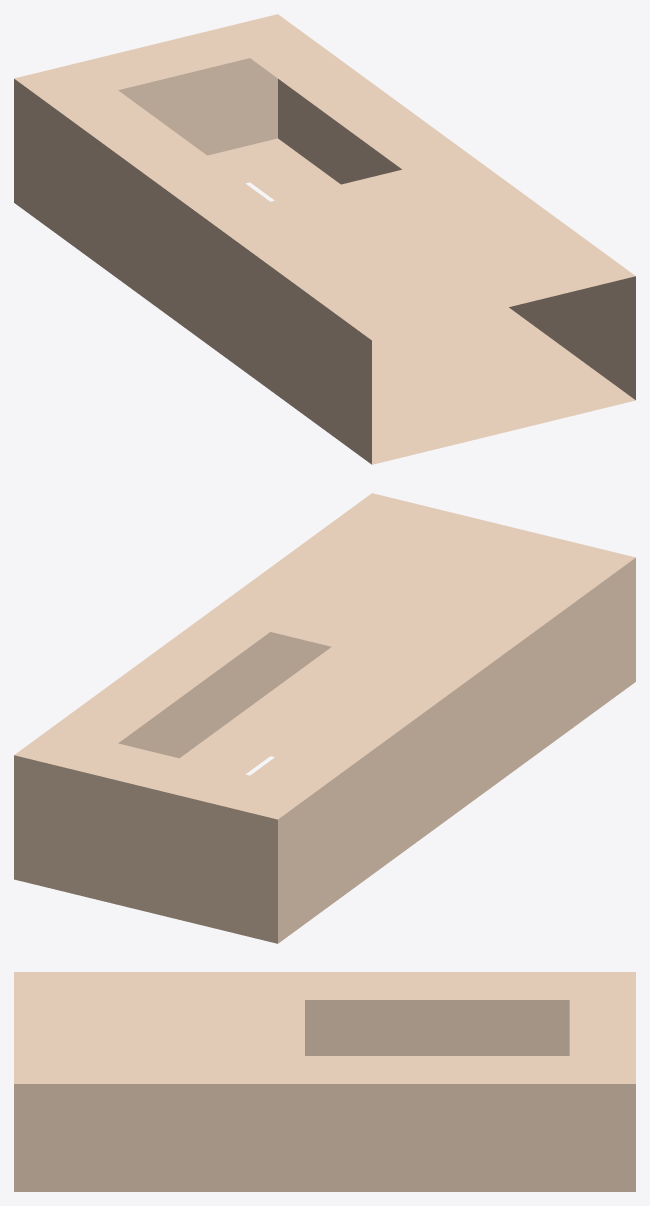
Rendered from original-2.obj.
3 renders of one model, top to bottom at view 1: azimuth 30°, elevation 25°; view 2: azimuth 150°, elevation 25°; view 3: azimuth 270°, elevation 25°, orthographic. The views are drawn at different scales.
Parts seen in each view (by area): view 1: #ID3; view 2: #ID3; view 3: #ID3.
Boxes of the visible parts, <box> form: #ID3: <box>14,14,635,464</box>; #ID3: <box>14,493,635,943</box>; #ID3: <box>14,972,635,1191</box>.
Size of the model in its own units: 0.094 by 0.0423 by 0.221.
